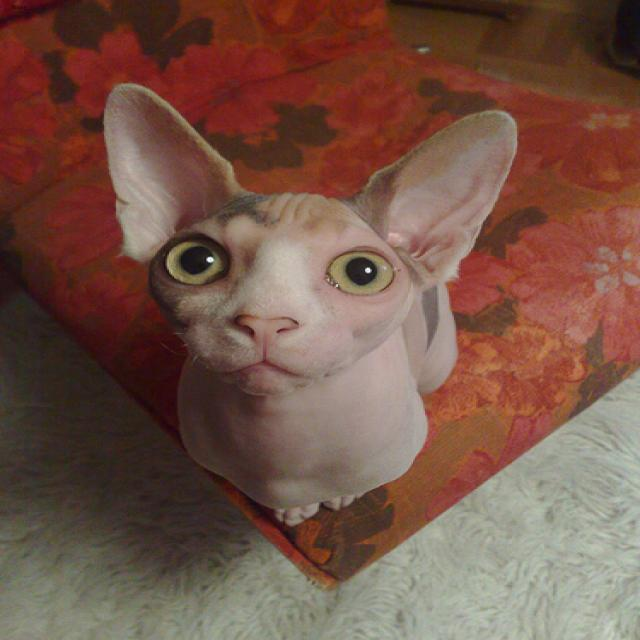Sphynx: (101, 82, 515, 393)
